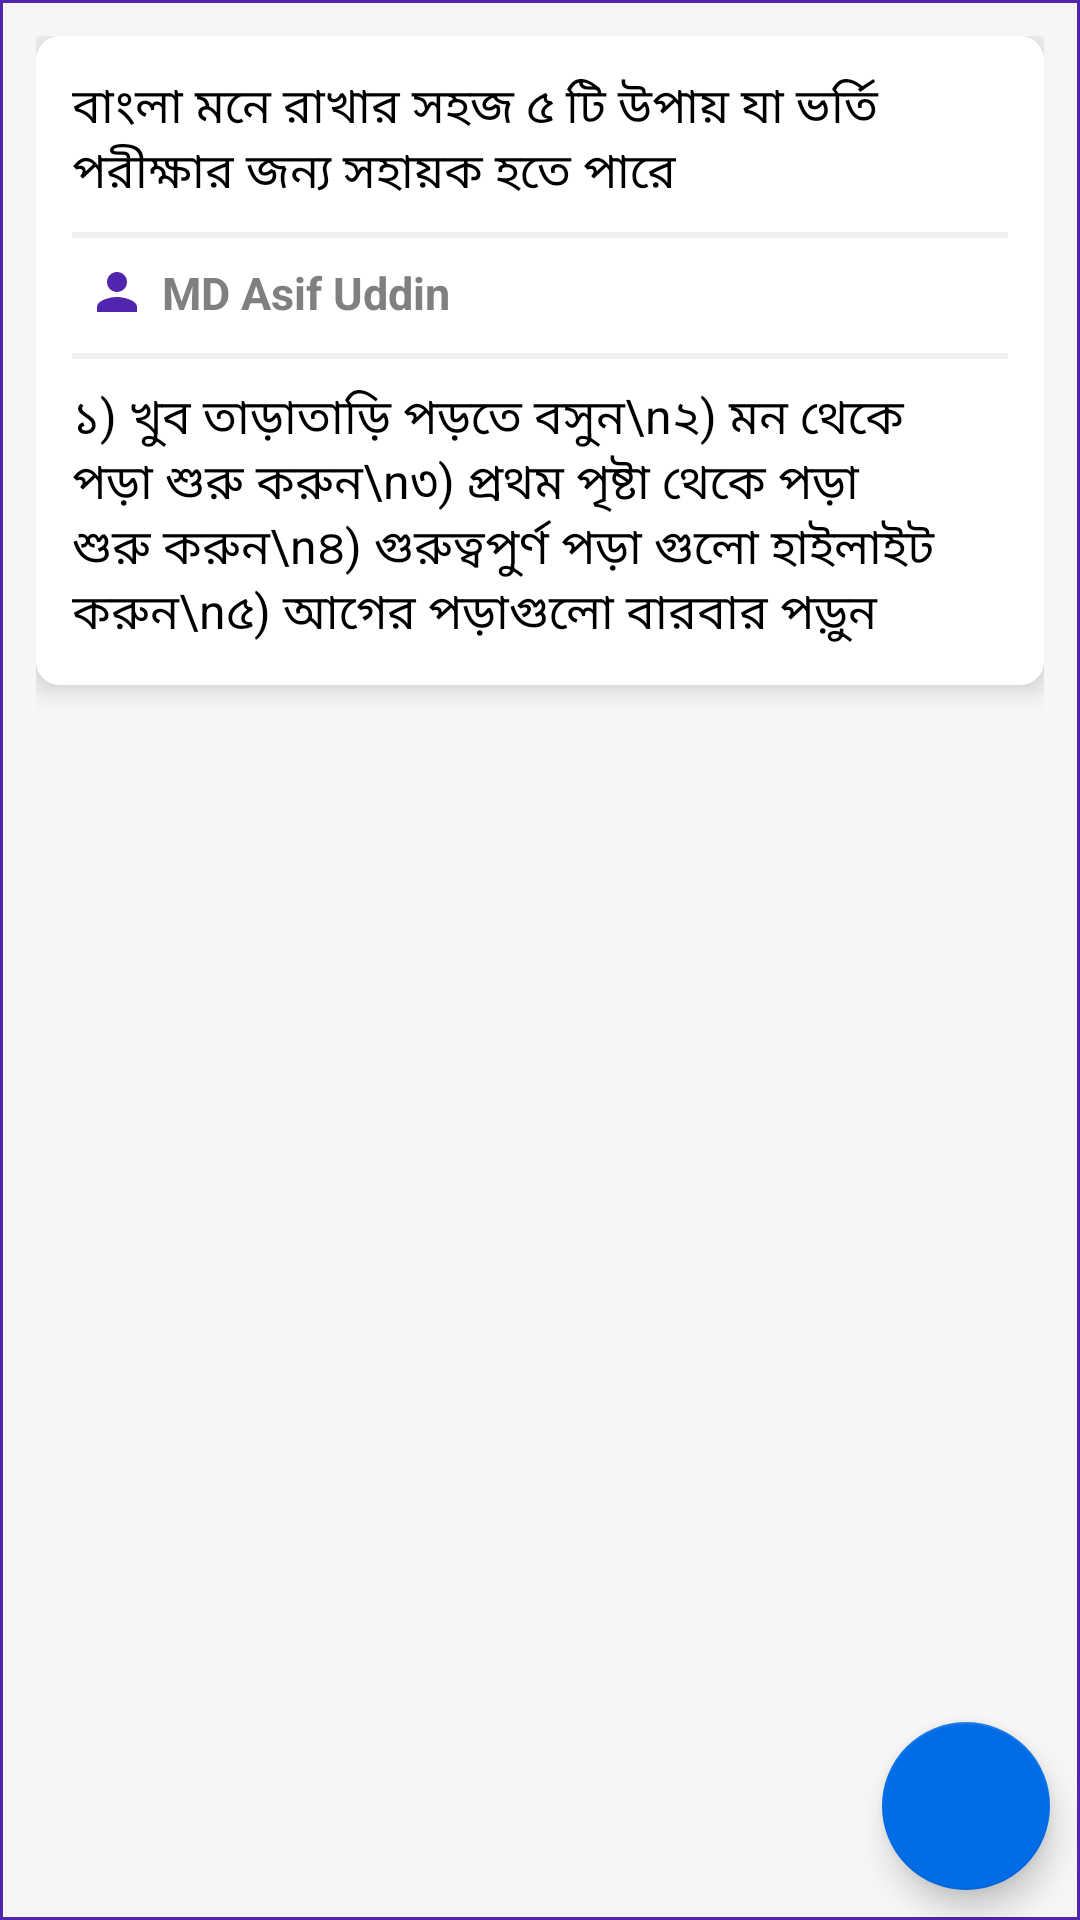

Screen size 1080 x 1920. Icon name, then its center in pixels as (x=x, y=y):
user: (x=117, y=292)
